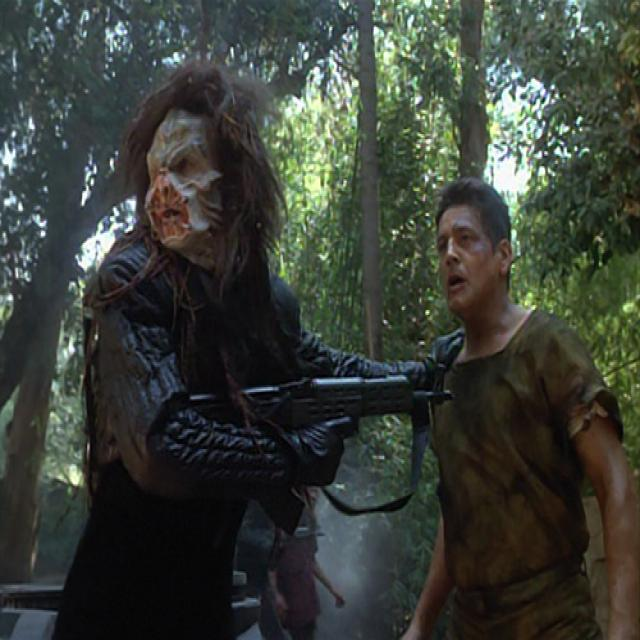rifle: (173, 372, 458, 436)
